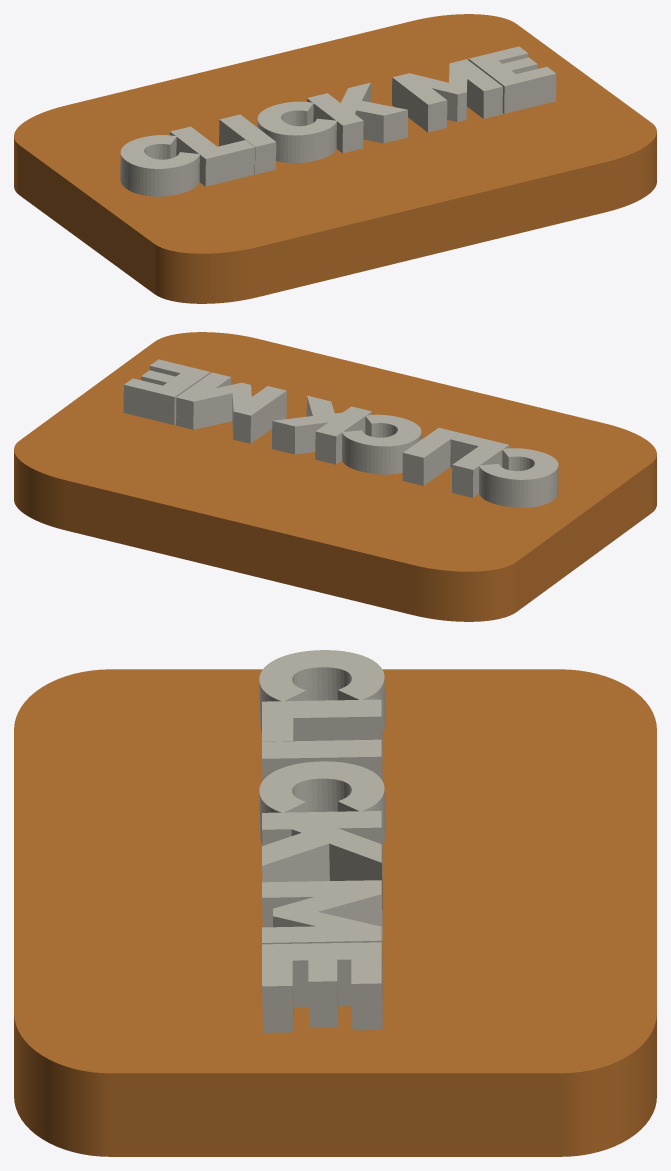
The model's file is clickMeButton.glb.
3 renders of one model, top to bottom at view 1: azimuth 30°, elevation 25°; view 2: azimuth 150°, elevation 25°; view 3: azimuth 270°, elevation 25°, orthographic. The views are drawn at different scales.
Parts seen in each view (by area): view 1: Box - baked, 3D Text - M, 3D Text - C, 3D Text - K, 3D Text - C0, 3D Text - E, 3D Text - L, 3D Text - I; view 2: Box - baked, 3D Text - M, 3D Text - C, 3D Text - K, 3D Text - C0, 3D Text - E, 3D Text - L, 3D Text - I; view 3: Box - baked, 3D Text - E, 3D Text - K, 3D Text - M, 3D Text - C0, 3D Text - C, 3D Text - L, 3D Text - I.
Boxes of the visible parts, box(x1,y1,x2,y2) form: Box - baked: box(14, 14, 656, 303); 3D Text - M: box(392, 59, 502, 132); 3D Text - C: box(120, 135, 199, 196); 3D Text - K: box(307, 82, 407, 153); 3D Text - C0: box(257, 101, 336, 163); 3D Text - E: box(468, 46, 556, 113); 3D Text - L: box(170, 126, 254, 186); 3D Text - I: box(219, 114, 276, 174); Box - baked: box(14, 332, 656, 621); 3D Text - M: box(176, 372, 286, 443); 3D Text - C: box(479, 448, 558, 507); 3D Text - K: box(272, 395, 372, 464); 3D Text - C0: box(342, 414, 421, 474); 3D Text - E: box(123, 359, 210, 424); 3D Text - L: box(450, 433, 509, 497); 3D Text - I: box(402, 428, 459, 485); Box - baked: box(14, 669, 656, 1156); 3D Text - E: box(262, 942, 382, 1032); 3D Text - K: box(262, 811, 382, 908); 3D Text - M: box(262, 880, 382, 973); 3D Text - C0: box(259, 761, 385, 844); 3D Text - C: box(259, 650, 385, 732); 3D Text - L: box(262, 699, 382, 762); 3D Text - I: box(262, 739, 382, 780).
Bounding box in the file's own units: 0.5 × 0.0763 × 0.3363.
